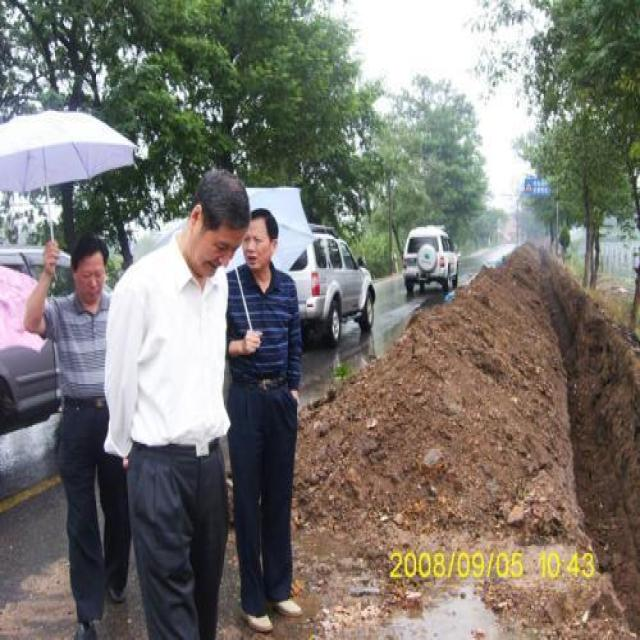no-helmet: (179, 162, 250, 271), (68, 230, 112, 314), (242, 208, 282, 280)
